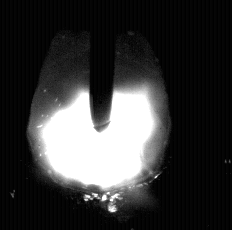arame: (91, 0, 113, 132)
poca: (26, 0, 171, 230)
